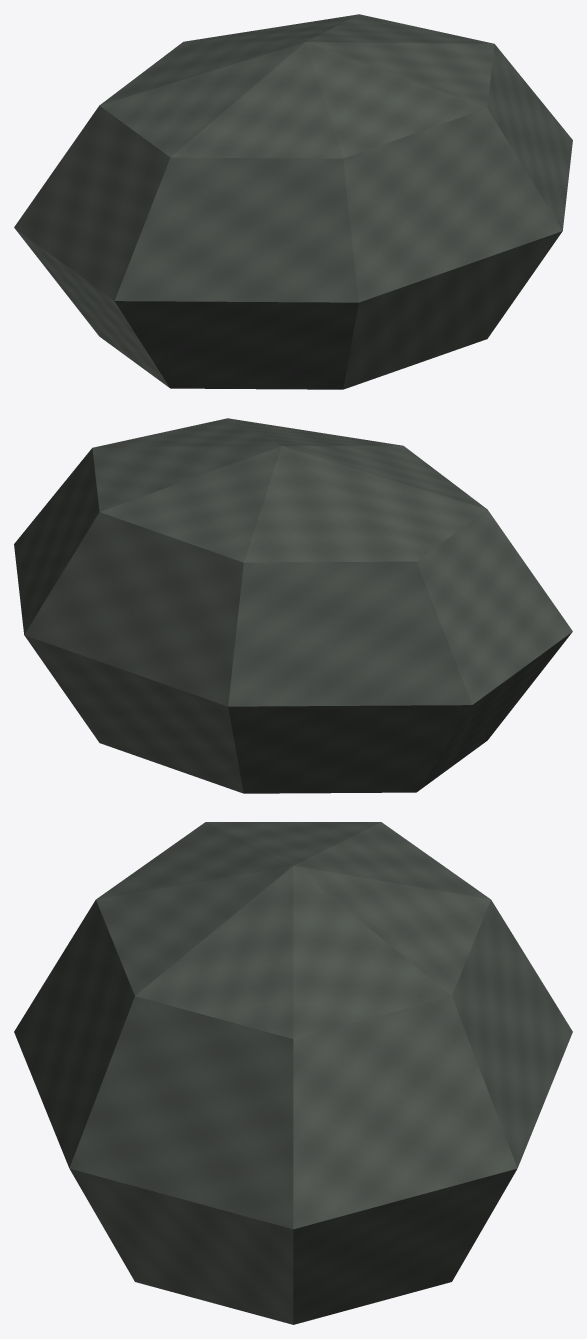
File: underworld-resource-understone.glb
The picture shows the model from 3 angles, top to bottom: view 1: azimuth 30°, elevation 25°; view 2: azimuth 150°, elevation 25°; view 3: azimuth 270°, elevation 25°; orthographic projection. The views are drawn at different scales.
Parts seen in each view (by area): view 1: stone; view 2: stone; view 3: stone.
Boxes of the visible parts, box(x1,y1,x2,y2) form: stone: box(14, 14, 572, 389); stone: box(14, 418, 572, 793); stone: box(14, 822, 572, 1324).
Size of the model in its own units: 0.4562 by 0.28 by 0.351.
Materials: 1 (1 with a texture image).
